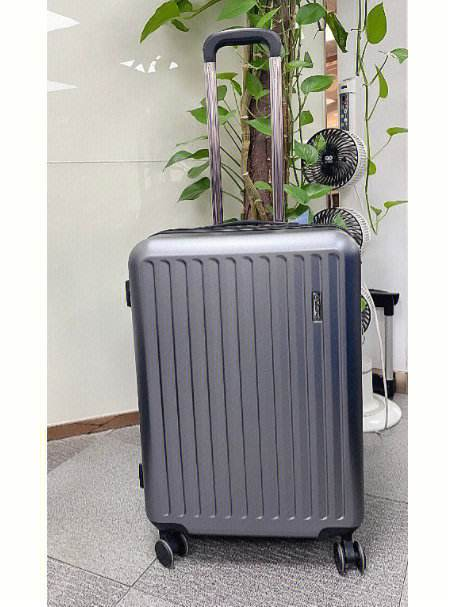box: (129, 228, 365, 538)
wheel: (332, 540, 367, 576), (155, 532, 189, 568)
